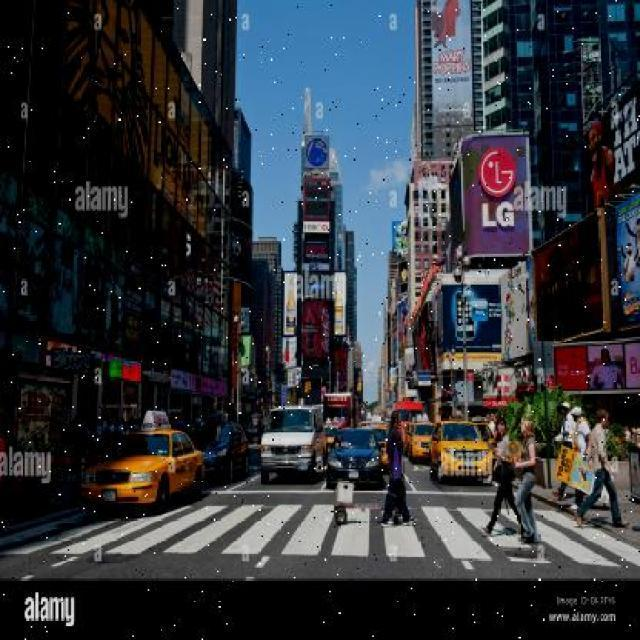Pedestrian crosswalk: (3, 483, 640, 583)
